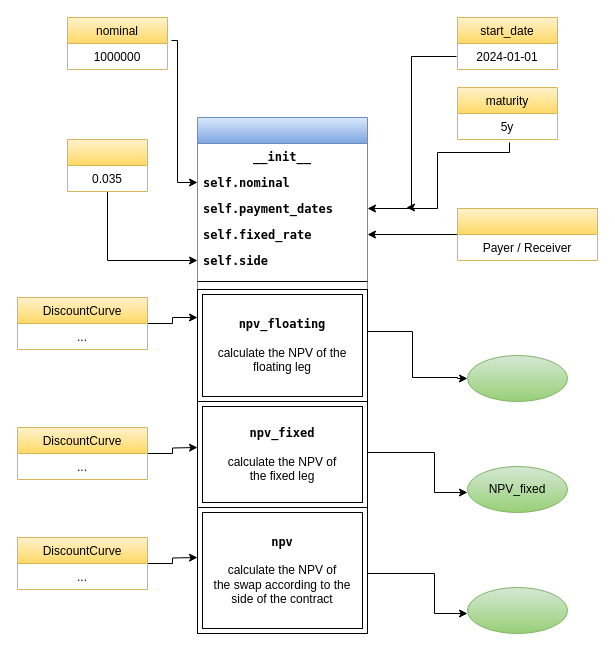
Image size: 615x651. Some labels were removed from this diagram. Here are the shapes that lost their labels. From the top down, the box of each, then its label:
(66, 138, 148, 192): rates
(456, 208, 598, 260): Side
(196, 116, 368, 634): OvernightIndexSwap
(466, 354, 568, 402): NPV_float
(466, 586, 568, 634): NPV
